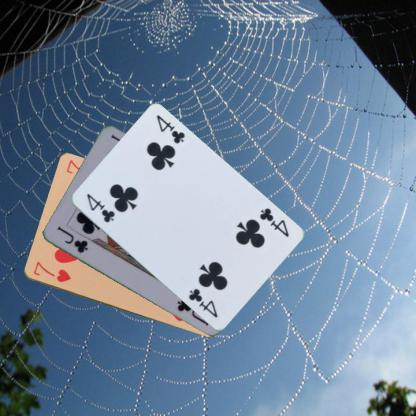4c: (257, 205, 290, 239), (84, 191, 116, 224)
7h: (30, 259, 72, 284)
Jc: (54, 223, 89, 254)
